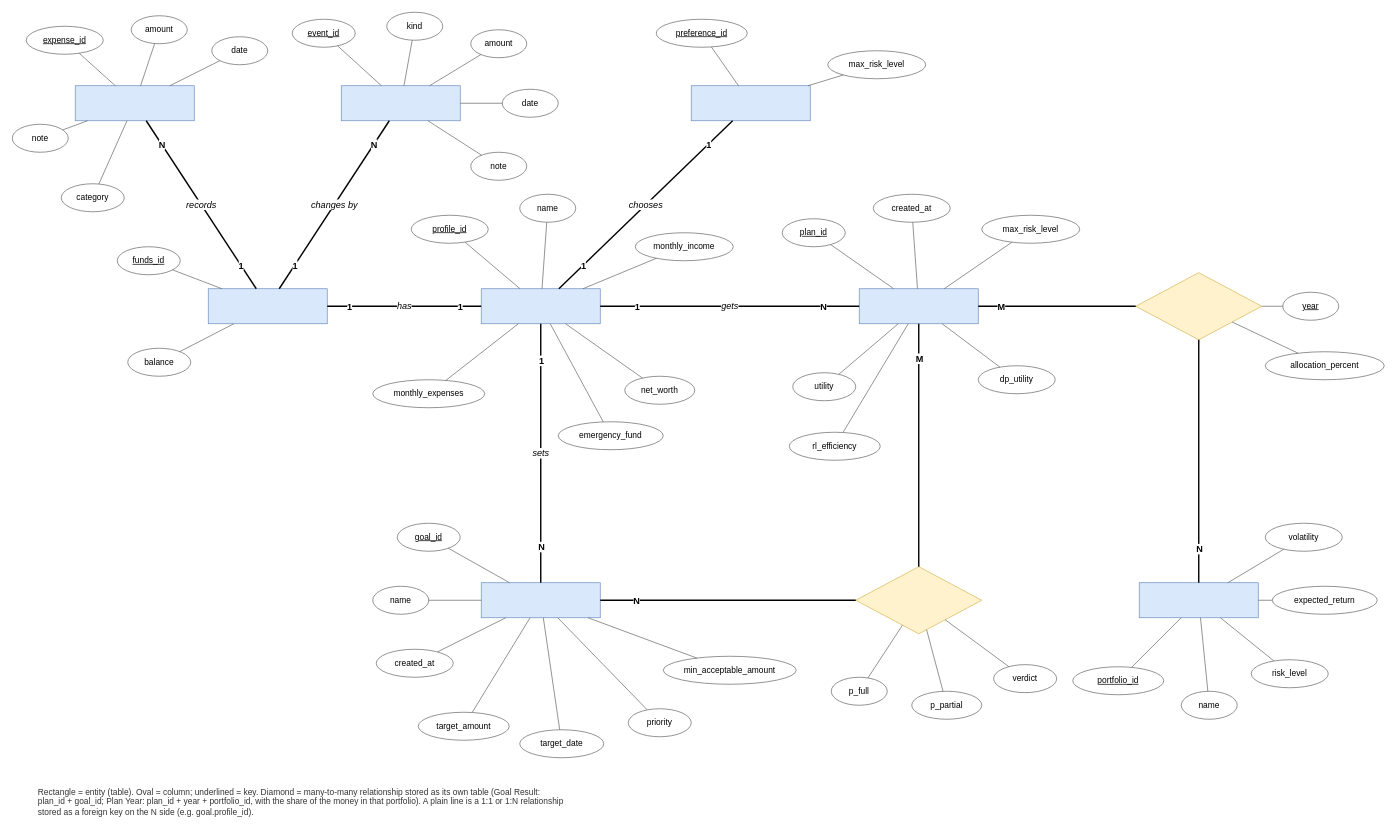
Image size: 1397x837. Some labels were removed from this diagram. The centre of each missing label's shape, as x and y in pixels:
"Available Funds" goes at point 267,306.
"Expense" goes at point 134,103.
"Financial Goal" goes at point 540,600.
"Financial Profile" goes at point 540,306.
"Funds Event" goes at point 400,103.
"Goal Result" goes at point 918,600.
"Investment Portfolio" goes at point 1198,600.
"Plan Result" goes at point 918,306.
"Plan Year" goes at point 1198,306.
"Risk Preference" goes at point 750,103.
